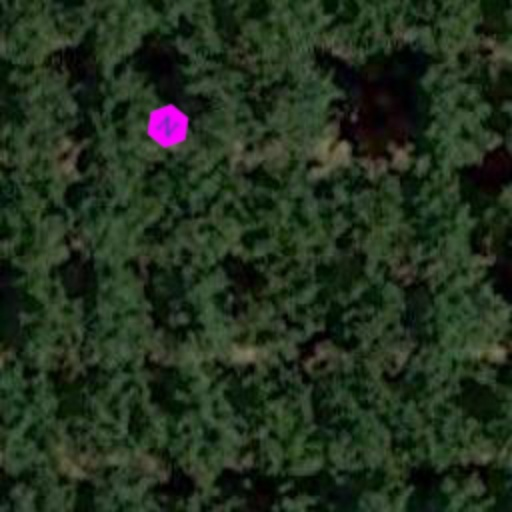hexagon: (136, 94, 200, 158)
